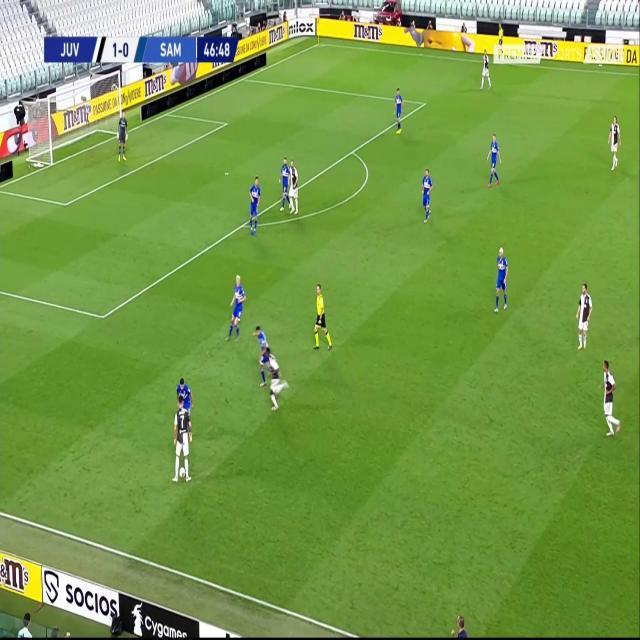goalkeeper: (116, 110, 129, 162)
player: (264, 342, 290, 412), (172, 395, 192, 484), (600, 356, 621, 437), (227, 274, 247, 342), (574, 280, 593, 350), (493, 244, 510, 314), (254, 324, 271, 387), (248, 173, 263, 236), (486, 131, 502, 188), (607, 114, 622, 171), (181, 375, 194, 437), (278, 155, 291, 212), (420, 166, 433, 223), (288, 157, 300, 214), (393, 85, 405, 135), (480, 46, 492, 90), (176, 374, 187, 410)
referee: (312, 281, 332, 351), (497, 21, 505, 59)
